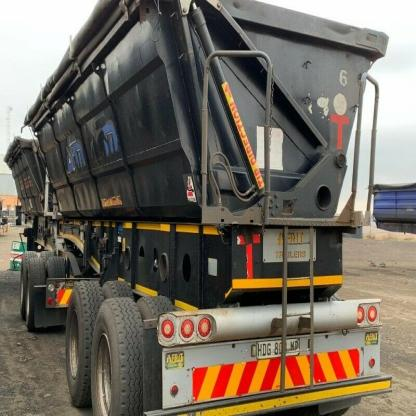dump_truck: (3, 4, 398, 416)
